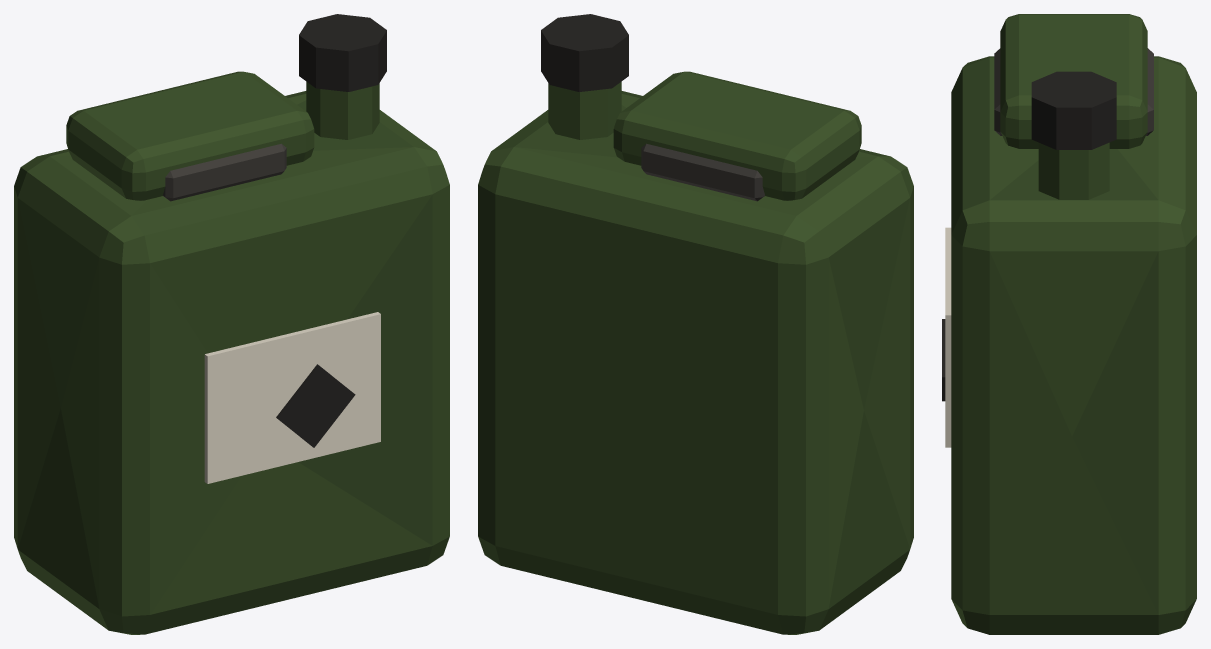
File: fuel_canister_10_l_idle.glb
3 renders of one model, left to right at view 1: azimuth 30°, elevation 25°; view 2: azimuth 150°, elevation 25°; view 3: azimuth 270°, elevation 25°, orthographic. The views are drawn at different scales.
Parts seen in each view (by area): view 1: fuel_canister_10_l_idle; view 2: fuel_canister_10_l_idle; view 3: fuel_canister_10_l_idle.
Part boxes in pixels (x1,y1,x2,y2): fuel_canister_10_l_idle: (14,14,449,634); fuel_canister_10_l_idle: (478,14,913,634); fuel_canister_10_l_idle: (942,14,1196,634).
Bounding box in the file's own units: 0.27 × 0.38 × 0.166.
Materials: 1 (1 with a texture image).
